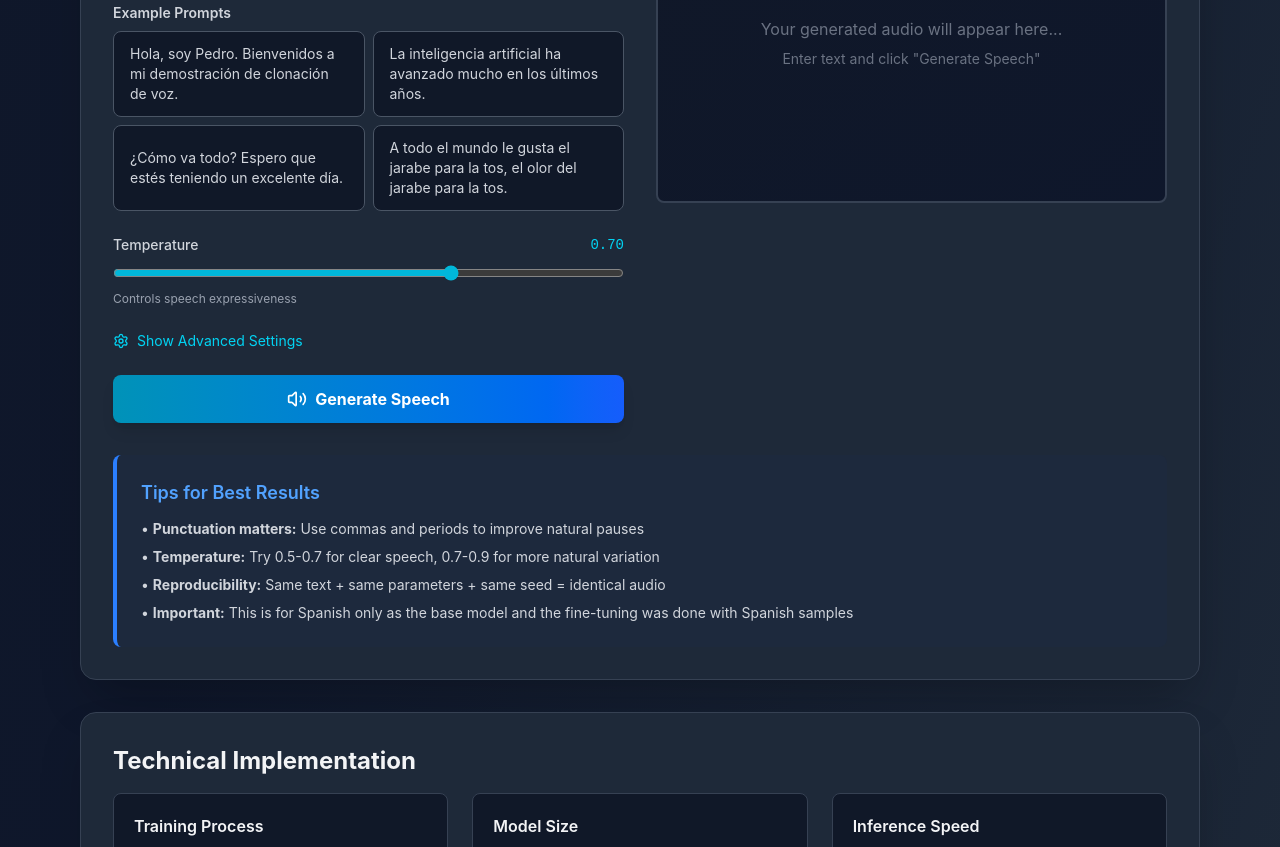
Test case: App › accepts the audio URL as a plain string
(page scrolled)
Step 1. Click the button "Generate Speech" → click(368, 398), box top-left (113, 374), bottom-right (624, 422)
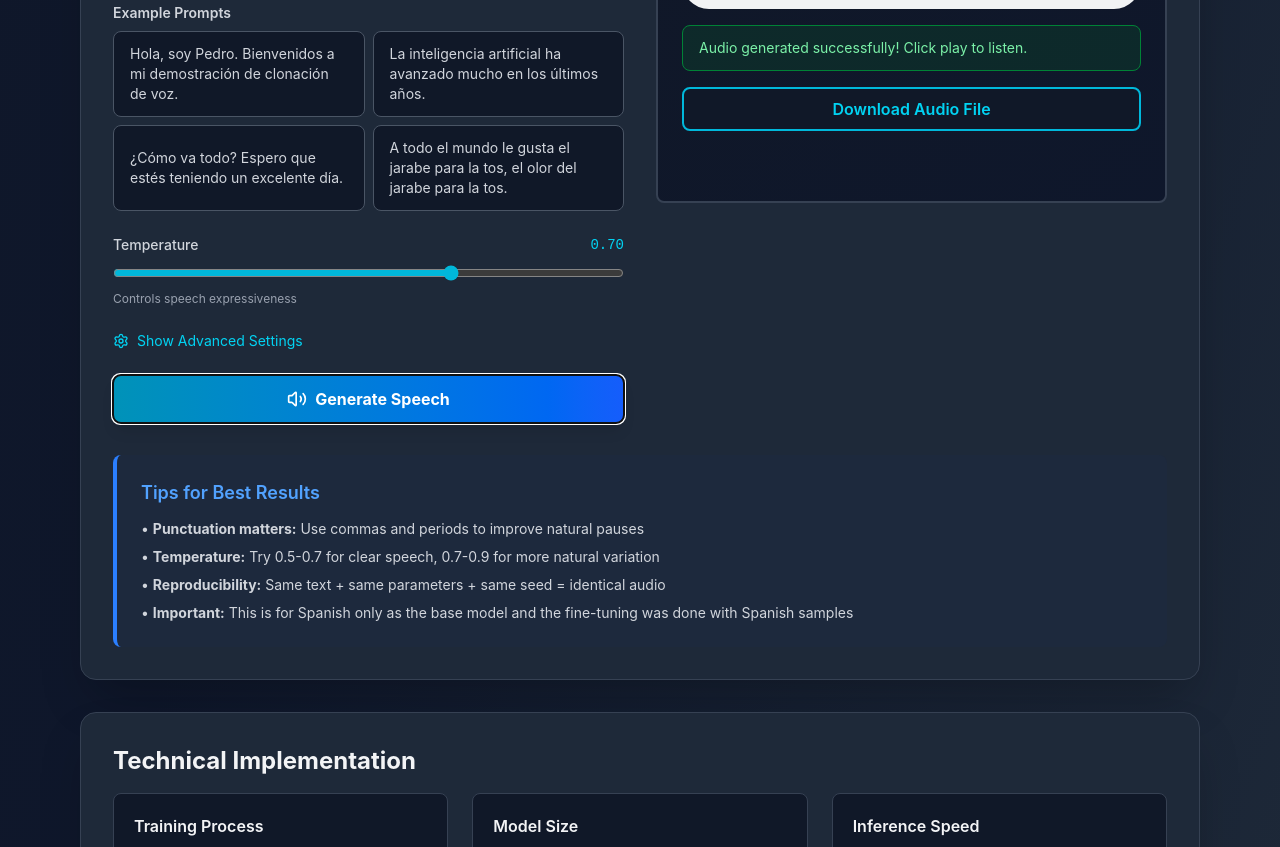
Expected: the text "Audio generated successfully! Click play to listen." is shown, top-left (682, 24), bottom-right (1141, 70)
